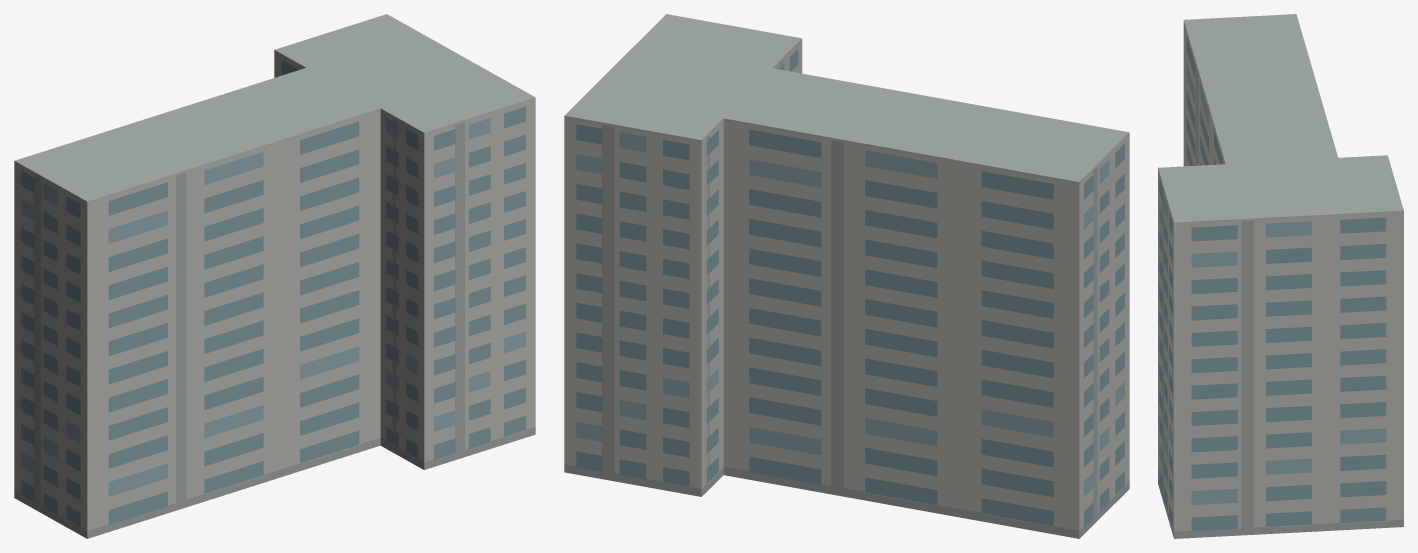
File: residential-d799967e-eee1-401f-9b82-d4c6d3a811ec.glb
3 renders of one model, left to right at view 1: azimuth 30°, elevation 25°; view 2: azimuth 150°, elevation 25°; view 3: azimuth 270°, elevation 25°, orthographic. The views are drawn at different scales.
Visible parts, largest first — view 1: residential-d799967e-eee1-401f-9b82-d4c6d3a811ec.tmp; view 2: residential-d799967e-eee1-401f-9b82-d4c6d3a811ec.tmp; view 3: residential-d799967e-eee1-401f-9b82-d4c6d3a811ec.tmp.
Part boxes in pixels (box(x1,y1,x2,y2)): residential-d799967e-eee1-401f-9b82-d4c6d3a811ec.tmp: box(14, 14, 535, 538); residential-d799967e-eee1-401f-9b82-d4c6d3a811ec.tmp: box(564, 14, 1129, 538); residential-d799967e-eee1-401f-9b82-d4c6d3a811ec.tmp: box(1158, 14, 1403, 538).
Size of the model in its own units: 49.5 by 35 by 24.66.
